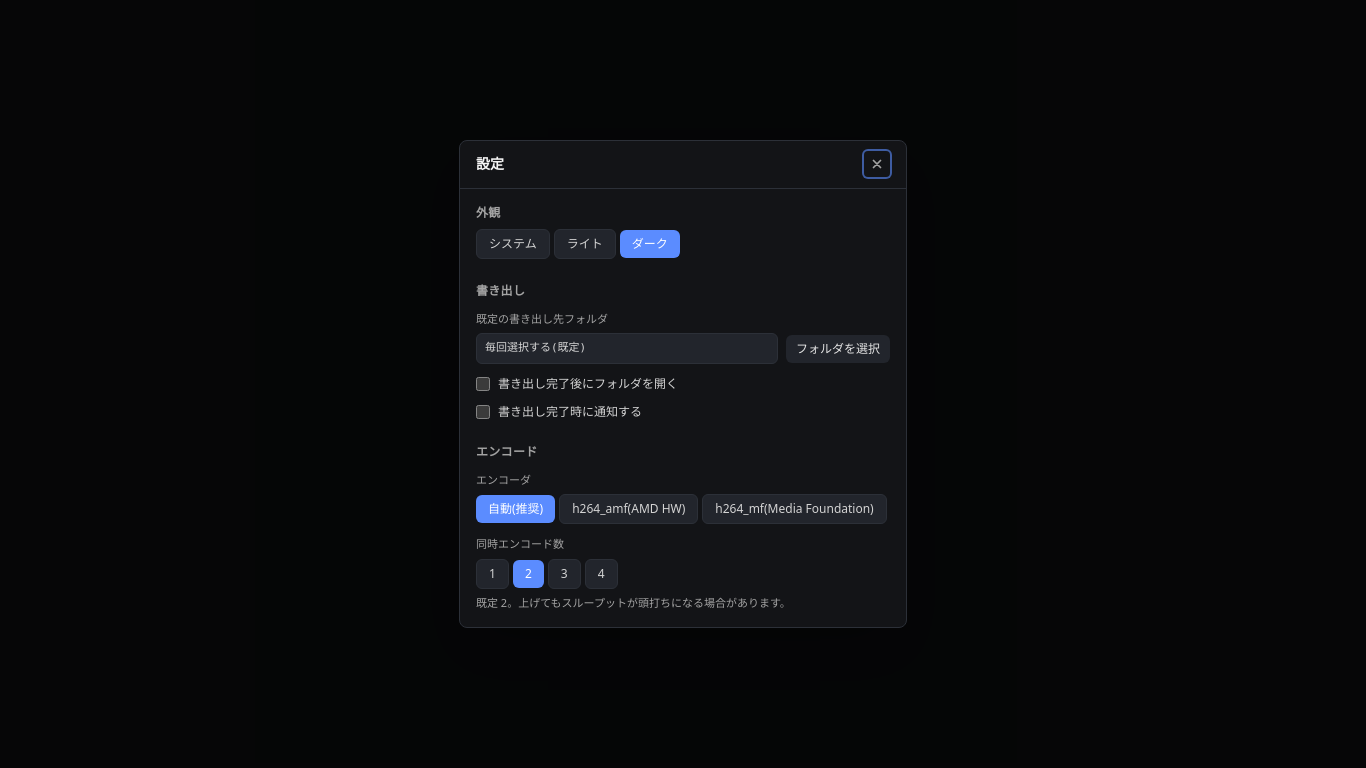
Scenario: SettingsDialog: 書き出し先 › フォルダを選択すると defaultExportDir が保存され、表示される
This screenshot has width=1366, height=768.
Expected: the text "毎回選択する(既定)" is shown, [476,333,778,364]
Click the button "フォルダを選択": (838, 348) [786,334,890,362]
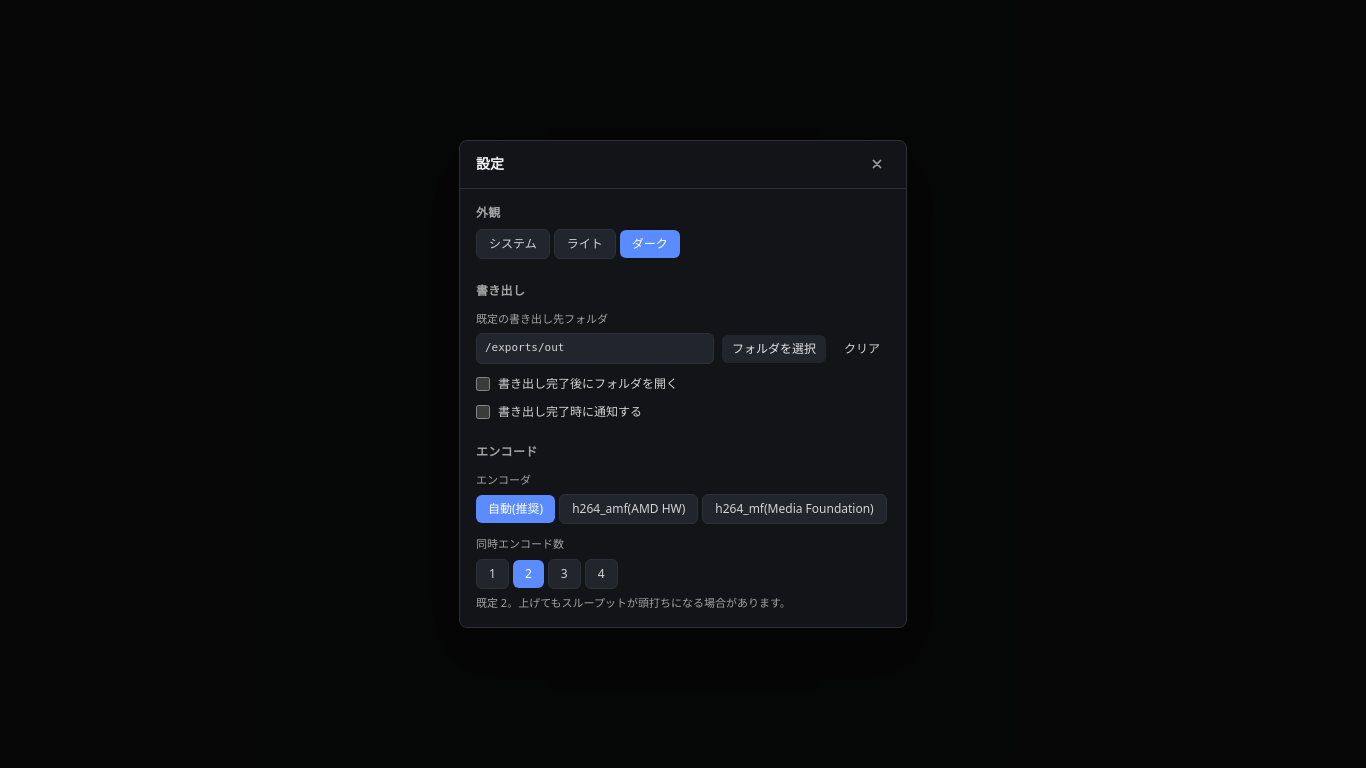
Now the text "/exports/out" is shown, box [476,333,714,364]
